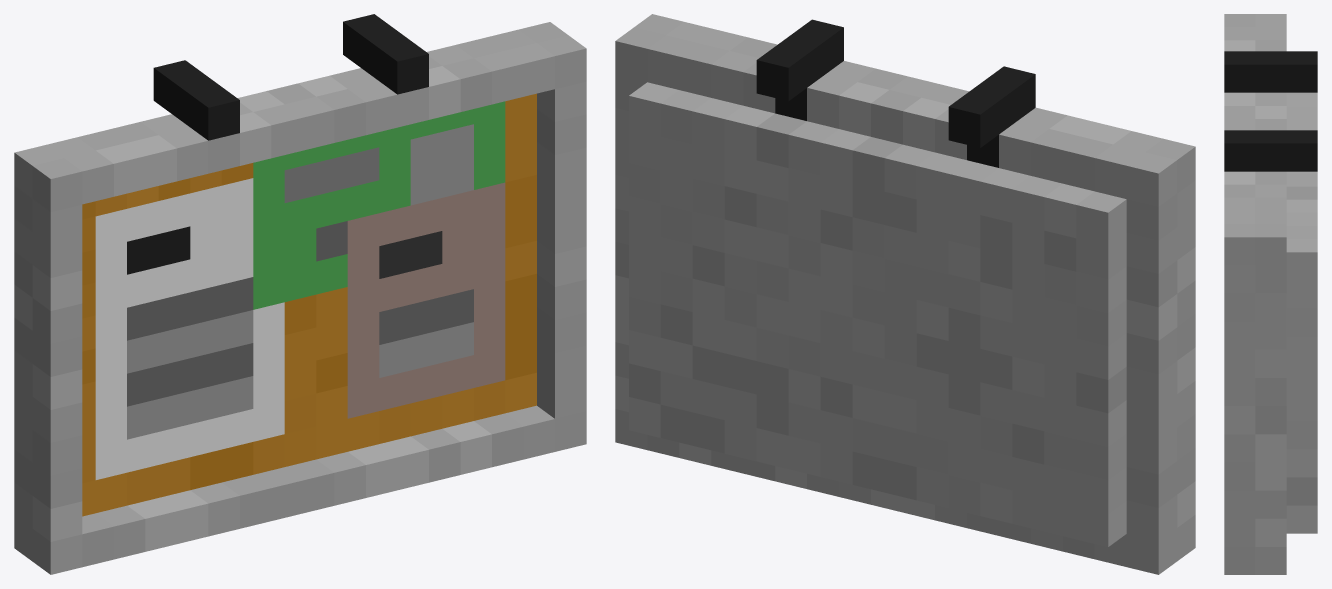
The model's file is CorchoParedMetal.obj.
3 views of the same model, side by side, from view 1: azimuth 30°, elevation 25°; view 2: azimuth 150°, elevation 25°; view 3: azimuth 270°, elevation 25° (orthographic). The views are drawn at different scales.
Bounding box in the file's own units: 1.7 × 1.3 × 0.3.
